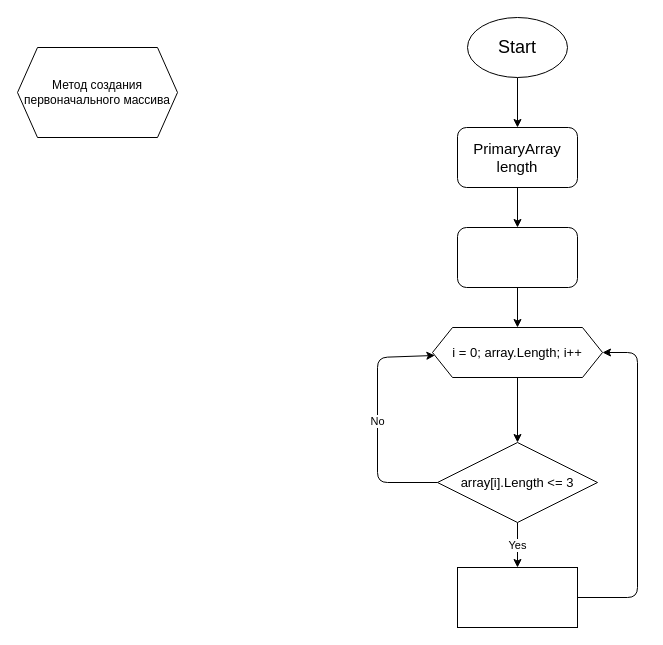
Image size: 663x645. Some labels were removed from this diagram. The shapes that lost their labels are listed below. From the top down, each one's centre as x and y in pixels, then its label:
point (517, 257): count = 0
point (517, 597): count++
